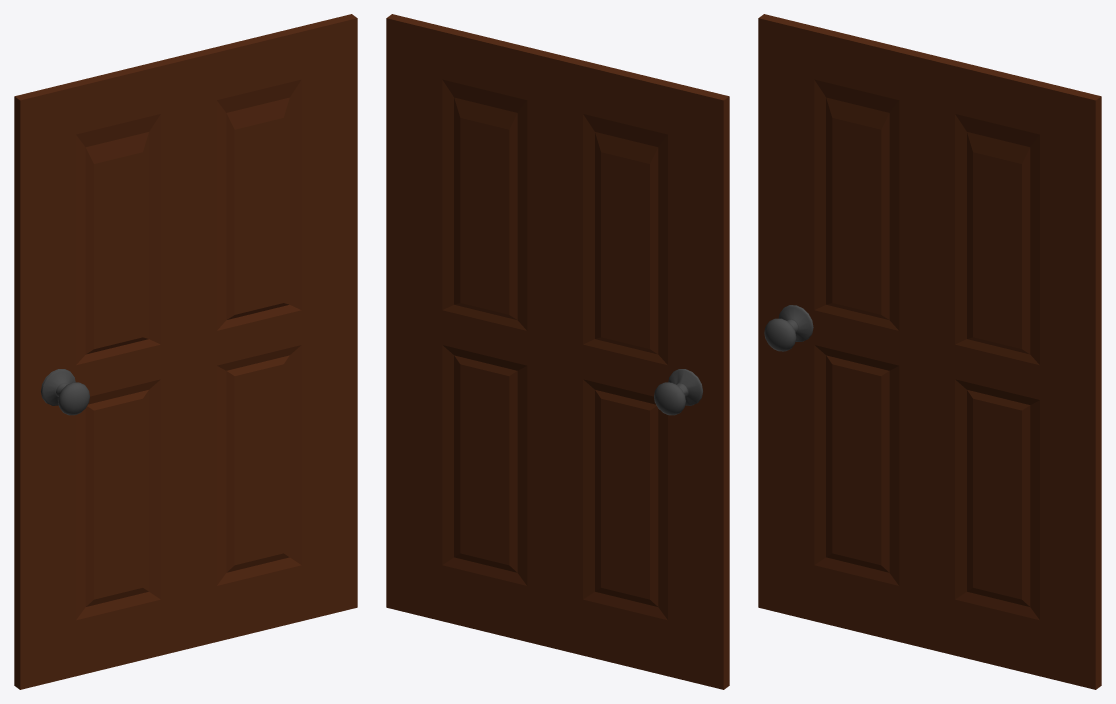
Rendered from DoorTest.fbx.
The picture shows the model from 3 angles, left to right: view 1: azimuth 30°, elevation 25°; view 2: azimuth 150°, elevation 25°; view 3: azimuth 330°, elevation 25°; orthographic projection.
Parts seen in each view (by area): view 1: Door; view 2: Door; view 3: Door.
Boxes of the visible parts, box(x1,y1,x2,y2) form: Door: box(14, 14, 357, 689); Door: box(386, 14, 729, 689); Door: box(758, 14, 1101, 689).
Size of the model in its own units: 150 by 250 by 36.81.
